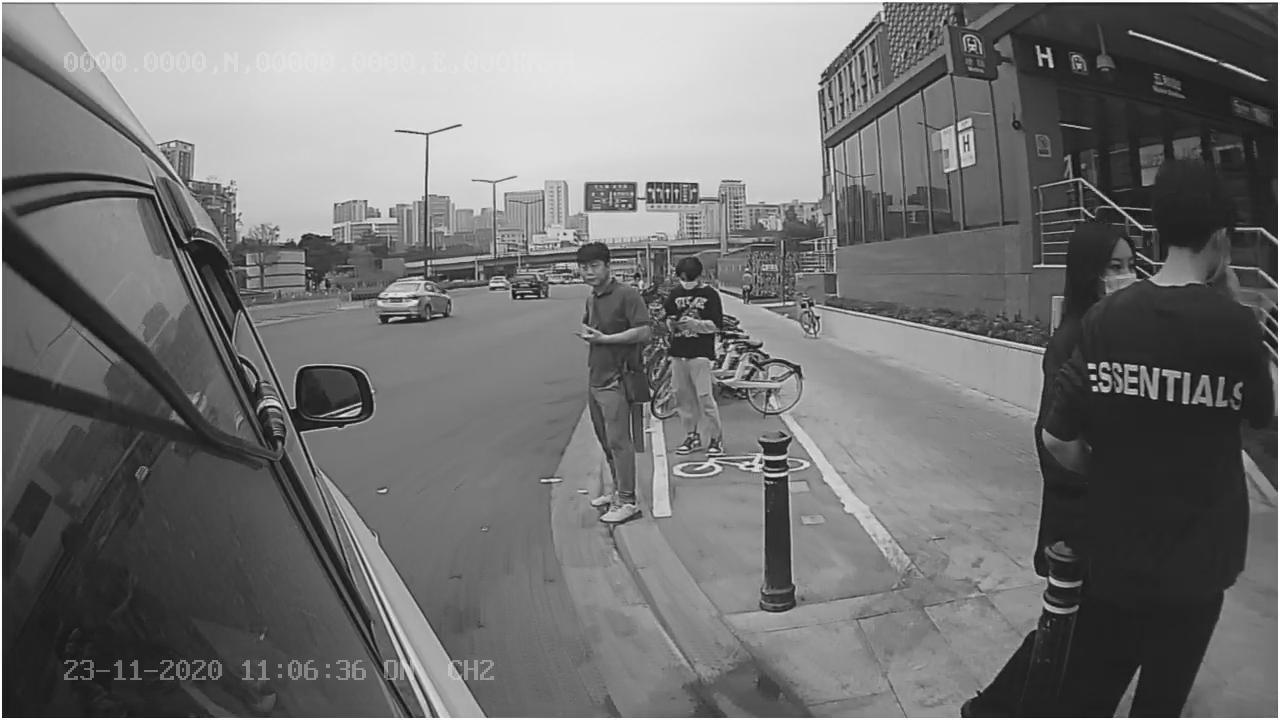person: (559, 234, 650, 533)
